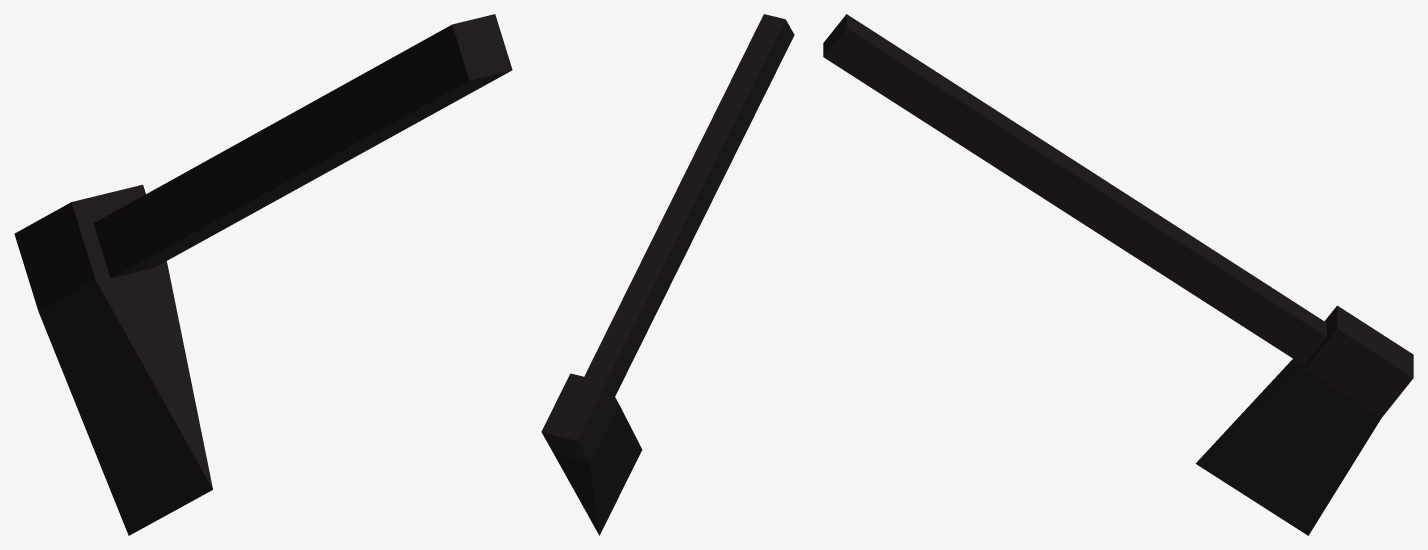
Rendered from Axe.001_1.fbx.
3 views of the same model, side by side, from view 1: azimuth 30°, elevation 25°; view 2: azimuth 150°, elevation 25°; view 3: azimuth 270°, elevation 25° (orthographic). The views are drawn at different scales.
Parts seen in each view (by area): view 1: Axe.001_1; view 2: Axe.001_1; view 3: Axe.001_1.
Part boxes in pixels (box(x1,y1,x2,y2)): Axe.001_1: box(14, 14, 512, 535); Axe.001_1: box(541, 14, 794, 535); Axe.001_1: box(823, 14, 1413, 535).
Size of the model in its own units: 2.82 by 28.92 by 30.05.
